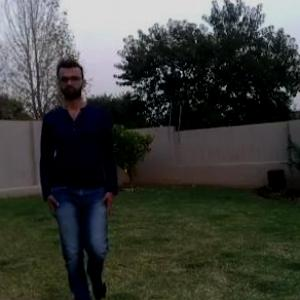follow: (41, 56, 115, 299)
